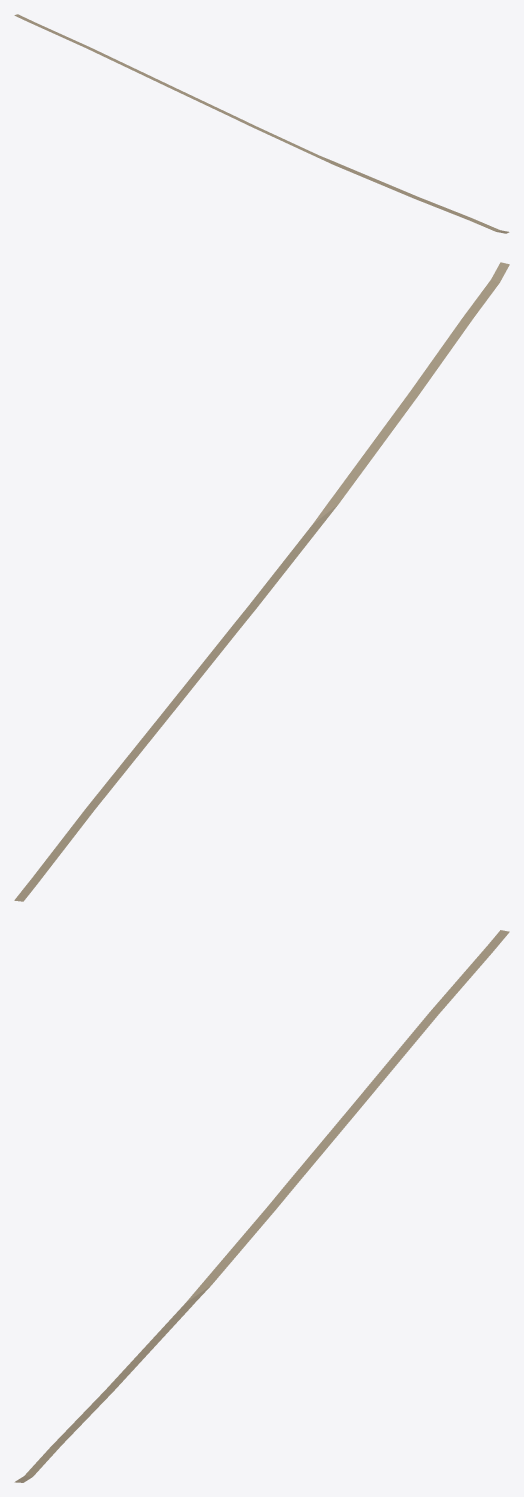
Rendered from farm_-4_11_track.glb.
3 renders of one model, top to bottom at view 1: azimuth 30°, elevation 25°; view 2: azimuth 150°, elevation 25°; view 3: azimuth 330°, elevation 25°, orthographic. The views are drawn at different scales.
Visible parts, largest first — view 1: geometry_0; view 2: geometry_0; view 3: geometry_0.
Part boxes in pixels (x1,y1,x2,y2): geometry_0: (14, 14, 509, 233); geometry_0: (14, 262, 509, 901); geometry_0: (14, 930, 509, 1482).
Bounding box in the file's own units: 95.96 × 15.81 × 481.
